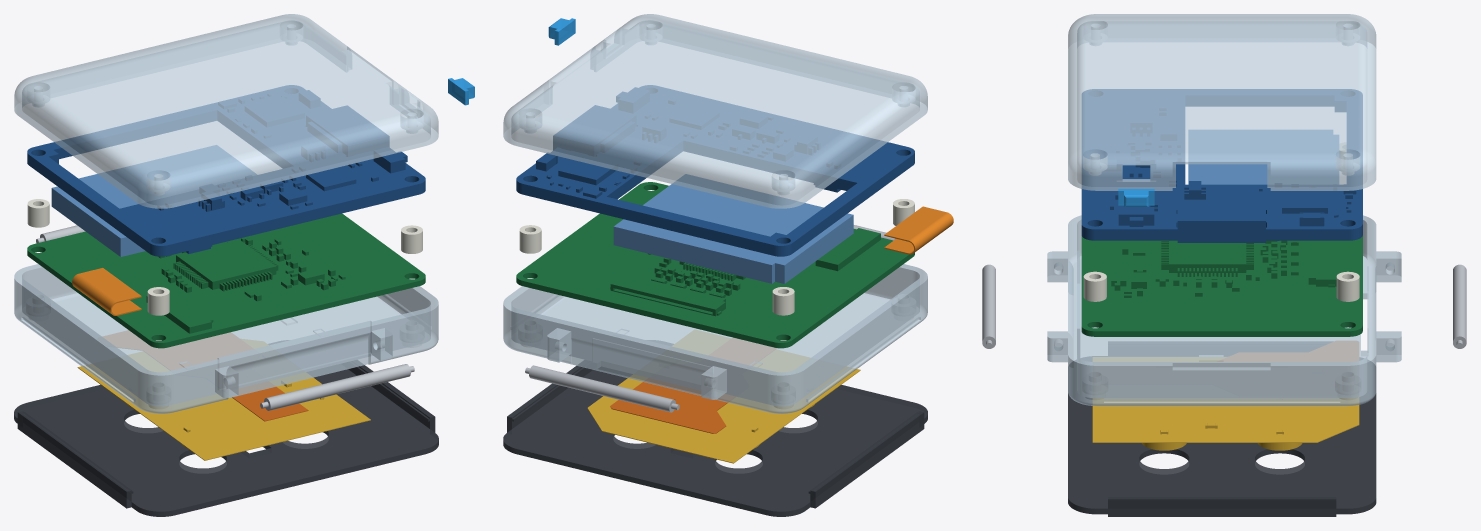
Rendered from exploded.glb.
The picture shows the model from 3 angles, left to right: view 1: azimuth 30°, elevation 25°; view 2: azimuth 150°, elevation 25°; view 3: azimuth 270°, elevation 25°; orthographic projection. The views are drawn at different scales.
Parts seen in each view (by area): view 1: cover, MCU_U9_full_588, tray, cap_bottom, AFE_30P_full_338, strap_30p_a_capsule, battery_302025, strap_30p_b_capsule, south_spring_bar, west_ffc20_reverse_loop, standoff_NW, standoff_SW (+2 smaller); view 2: cover, MCU_U9_full_588, tray, cap_bottom, AFE_30P_full_338, battery_302025, strap_30p_a_capsule, strap_30p_b_capsule, north_spring_bar, west_ffc20_reverse_loop, standoff_NW, standoff_NE (+1 smaller); view 3: cover, MCU_U9_full_588, tray, cap_bottom, AFE_30P_full_338, strap_30p_a_capsule, battery_302025, strap_30p_b_capsule, south_spring_bar, north_spring_bar, standoff_SE, standoff_NE (+1 smaller).
Part boxes in pixels (x1=…): cover: x1=14, y1=14, x2=438, y2=208; MCU_U9_full_588: x1=27, y1=85, x2=425, y2=256; tray: x1=14, y1=264, x2=438, y2=413; cap_bottom: x1=14, y1=340, x2=438, y2=516; AFE_30P_full_338: x1=27, y1=213, x2=425, y2=348; strap_30p_a_capsule: x1=77, y1=339, x2=370, y2=460; battery_302025: x1=51, y1=145, x2=256, y2=256; strap_30p_b_capsule: x1=103, y1=330, x2=308, y2=421; south_spring_bar: x1=260, y1=364, x2=414, y2=410; west_ffc20_reverse_loop: x1=72, y1=268, x2=141, y2=315; standoff_NW: x1=27, y1=199, x2=49, y2=227; standoff_SW: x1=147, y1=287, x2=169, y2=315; cover: x1=503, y1=14, x2=927, y2=208; MCU_U9_full_588: x1=516, y1=85, x2=914, y2=256; tray: x1=503, y1=264, x2=927, y2=413; cap_bottom: x1=503, y1=340, x2=927, y2=516; AFE_30P_full_338: x1=516, y1=182, x2=914, y2=348; battery_302025: x1=613, y1=174, x2=853, y2=283; strap_30p_a_capsule: x1=587, y1=330, x2=860, y2=463; strap_30p_b_capsule: x1=610, y1=338, x2=776, y2=433; north_spring_bar: x1=525, y1=365, x2=679, y2=412; west_ffc20_reverse_loop: x1=884, y1=206, x2=953, y2=254; standoff_NW: x1=772, y1=287, x2=794, y2=315; standoff_NE: x1=519, y1=225, x2=541, y2=253; cover: x1=1068, y1=14, x2=1376, y2=190; MCU_U9_full_588: x1=1081, y1=89, x2=1362, y2=242; tray: x1=1047, y1=215, x2=1401, y2=406; cap_bottom: x1=1068, y1=342, x2=1376, y2=516; AFE_30P_full_338: x1=1081, y1=235, x2=1362, y2=336; strap_30p_a_capsule: x1=1092, y1=357, x2=1359, y2=450; battery_302025: x1=1188, y1=130, x2=1338, y2=184; strap_30p_b_capsule: x1=1218, y1=341, x2=1358, y2=361; south_spring_bar: x1=982, y1=264, x2=995, y2=348; north_spring_bar: x1=1453, y1=264, x2=1466, y2=348; standoff_SE: x1=1083, y1=271, x2=1106, y2=301; standoff_NE: x1=1336, y1=271, x2=1359, y2=301.
Size of the model in its own units: 0.0596 by 0.0506 by 0.0628.
